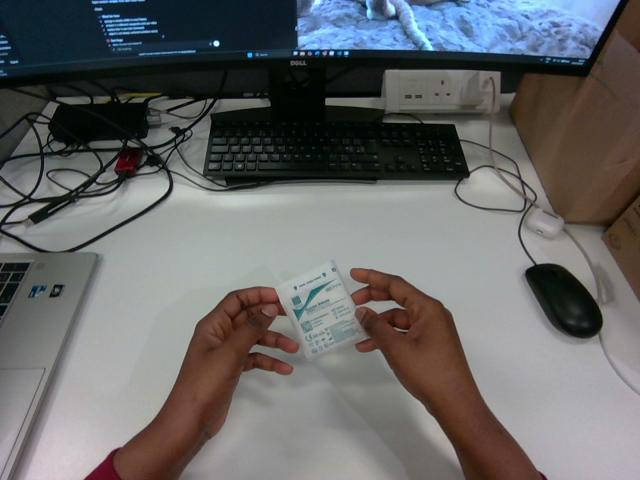gauze: (276, 261, 367, 359)
